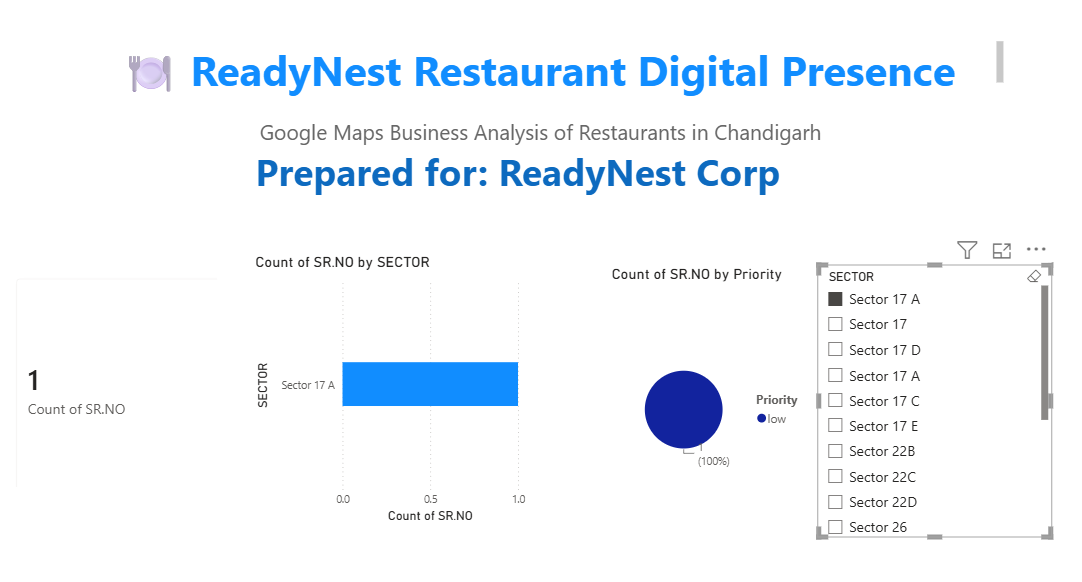

The dashboard page shown, as its layout file describes it:
{"tool":"powerbi","page":{"name":"Page 1","canvas":[1280,720],"ordinal":0},"visuals":[{"type":"textbox","box":[144.1,45.3,1018.2,87.8],"z":0},{"type":"textbox","box":[144.1,133.1,1069,101.5],"z":1},{"type":"cardVisual","fields":{"Data":["CountNonNull(Master Data.SR.NO)"]},"box":[0,292.3,275.8,284],"z":2},{"type":"clusteredBarChart","fields":{"Y":["CountNonNull(Master Data.SR.NO)"],"Category":["Master Data.SECTOR"]},"box":[297.8,292.3,318.4,312.9],"z":3},{"type":"pieChart","fields":{"Category":["Master Data.Priority"],"Y":["CountNonNull(Master Data.SR.NO)"]},"box":[703.9,306,240.1,312.9],"z":4},{"type":"slicer","fields":{"Values":["Master Data.SECTOR"]},"box":[944,306,269,313],"z":5}]}

Visuals, with their boxes on the page's 1280x720 design canvas (x1, y1, x2, y2). These are canvas units, not pixel positions in the 1082x582 screenshot, which may show the page scaled, cropped or inside an application window:
textbox: <bbox>144, 45, 1162, 133</bbox>
textbox: <bbox>144, 133, 1213, 235</bbox>
cardVisual - CountNonNull(Master Data.SR.NO): <bbox>0, 292, 276, 576</bbox>
clusteredBarChart - CountNonNull(Master Data.SR.NO) x Master Data.SECTOR: <bbox>298, 292, 616, 605</bbox>
pieChart - Master Data.Priority x CountNonNull(Master Data.SR.NO): <bbox>704, 306, 944, 619</bbox>
slicer - Master Data.SECTOR: <bbox>944, 306, 1213, 619</bbox>
